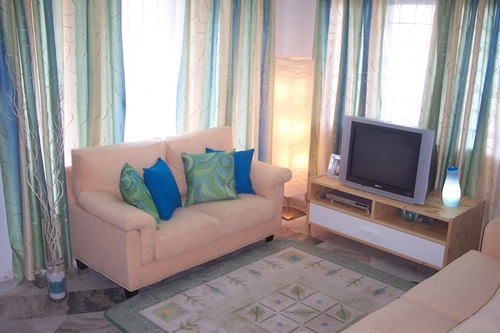TV: (337, 113, 436, 207)
TV stand: (305, 173, 487, 269)
sofa: (64, 124, 292, 298)
